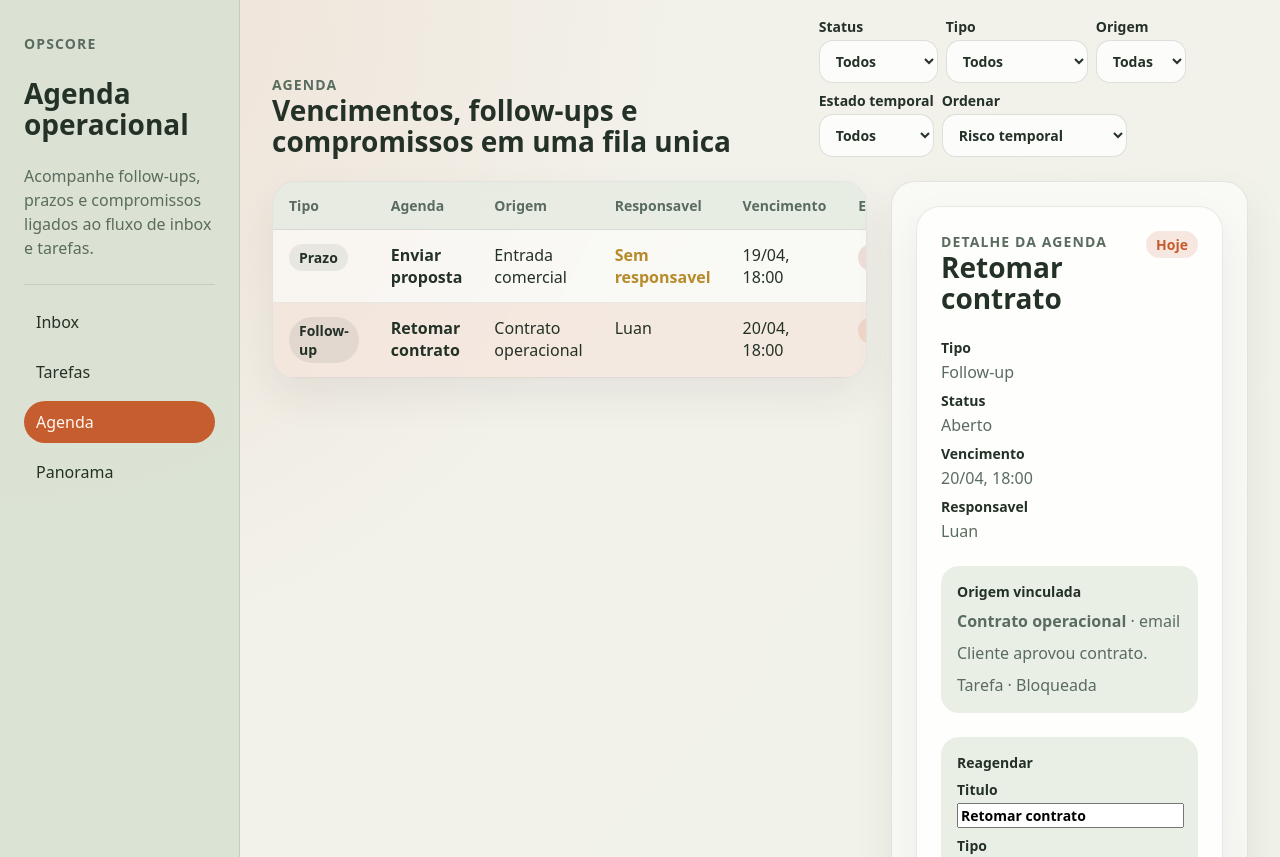
agenda workspace shell › reschedules agenda items
The width and height of the screenshot is (1280, 857).
Replace the text in the field labelled "Titulo" with "Retomar contrato atualizado" at (1070, 815), box [957,803,1184,828]
(page scrolled)
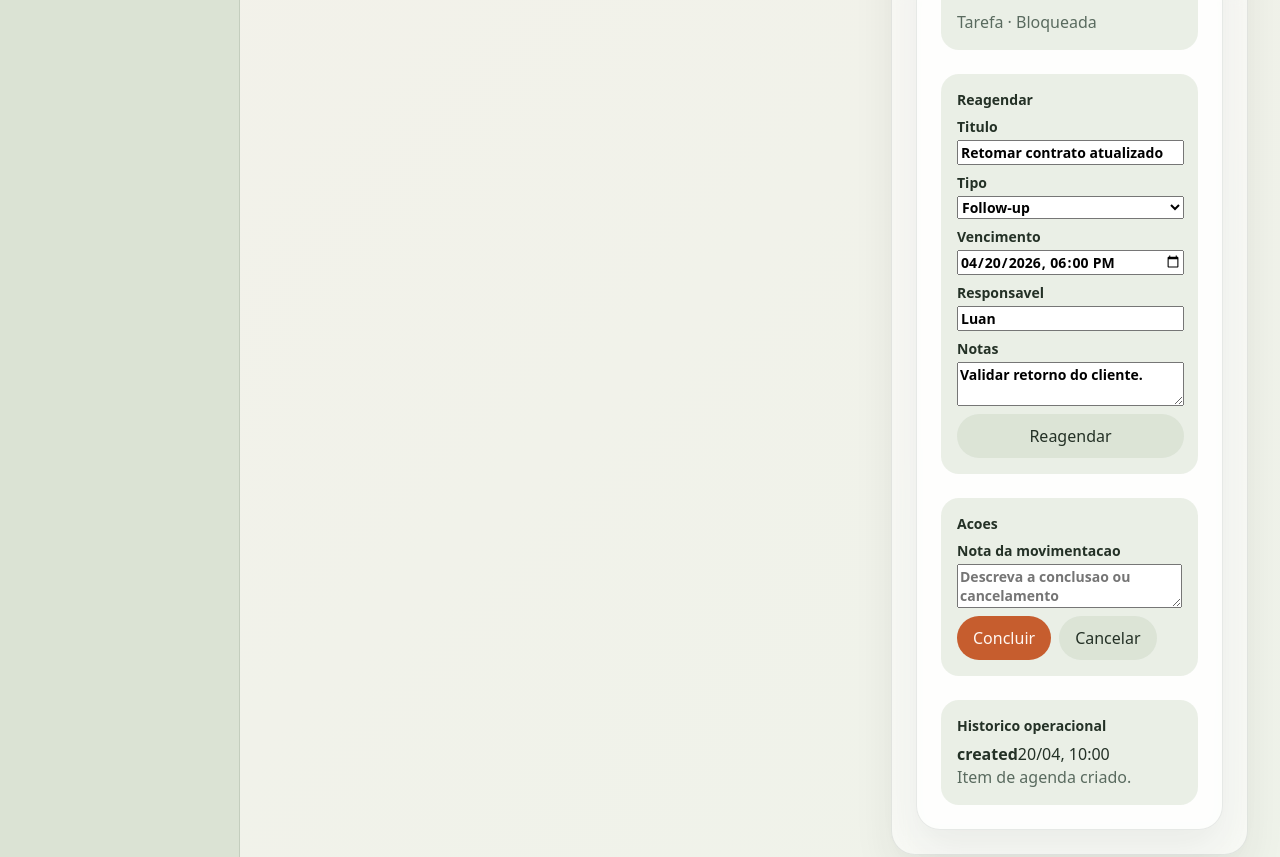
Click the button "Reagendar".
click(1070, 436)  # box [957,414,1184,458]
(page scrolled)
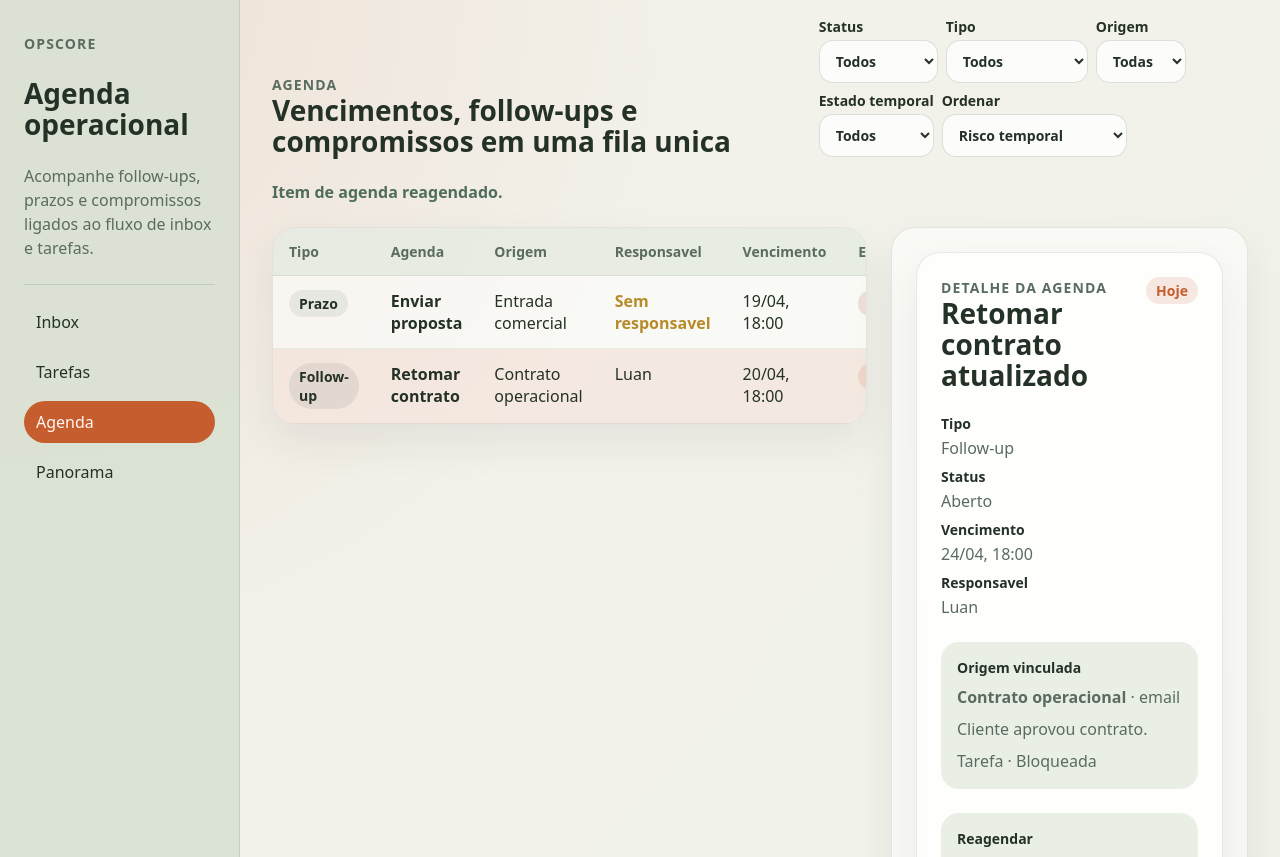
Result: the text "Item de agenda reagendado." is shown at [272,181,502,203]
